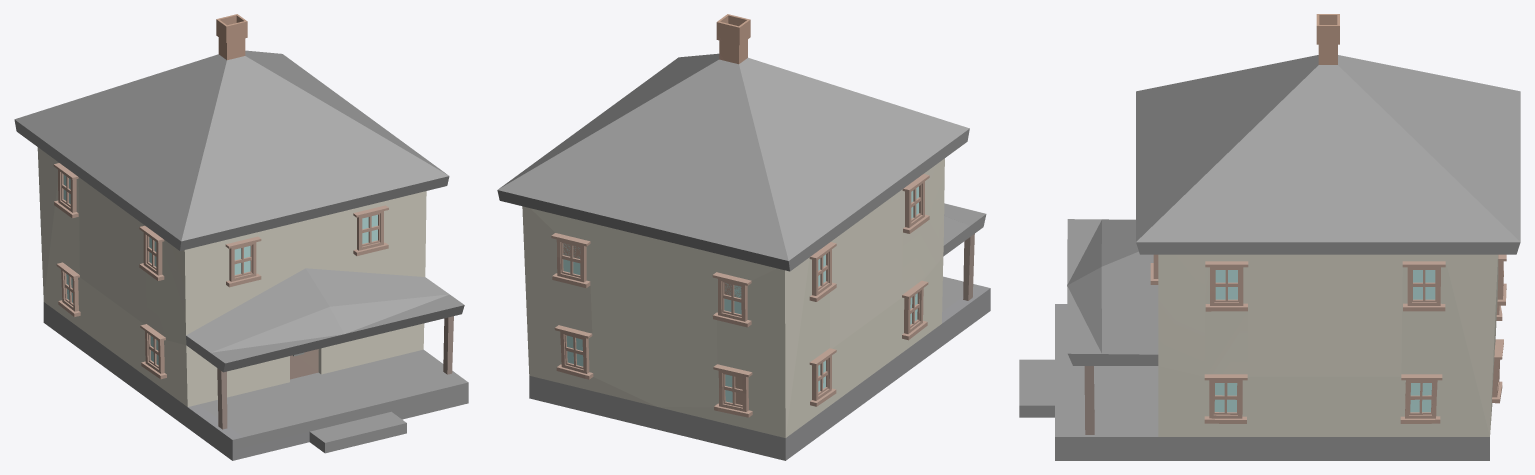
Rendered from house-q-1.glb.
3 views of the same model, side by side, from view 1: azimuth 30°, elevation 25°; view 2: azimuth 150°, elevation 25°; view 3: azimuth 270°, elevation 25° (orthographic). The views are drawn at different scales.
Parts seen in each view (by area): view 1: House1; view 2: House1; view 3: House1.
Part boxes in pixels (box(x1,y1,x2,y2)): House1: box(14, 14, 468, 460); House1: box(497, 14, 990, 460); House1: box(1019, 14, 1520, 460).
Bounding box in the file's own units: 0.7122 × 0.8248 × 1.
Materials: 1 (1 with a texture image).
